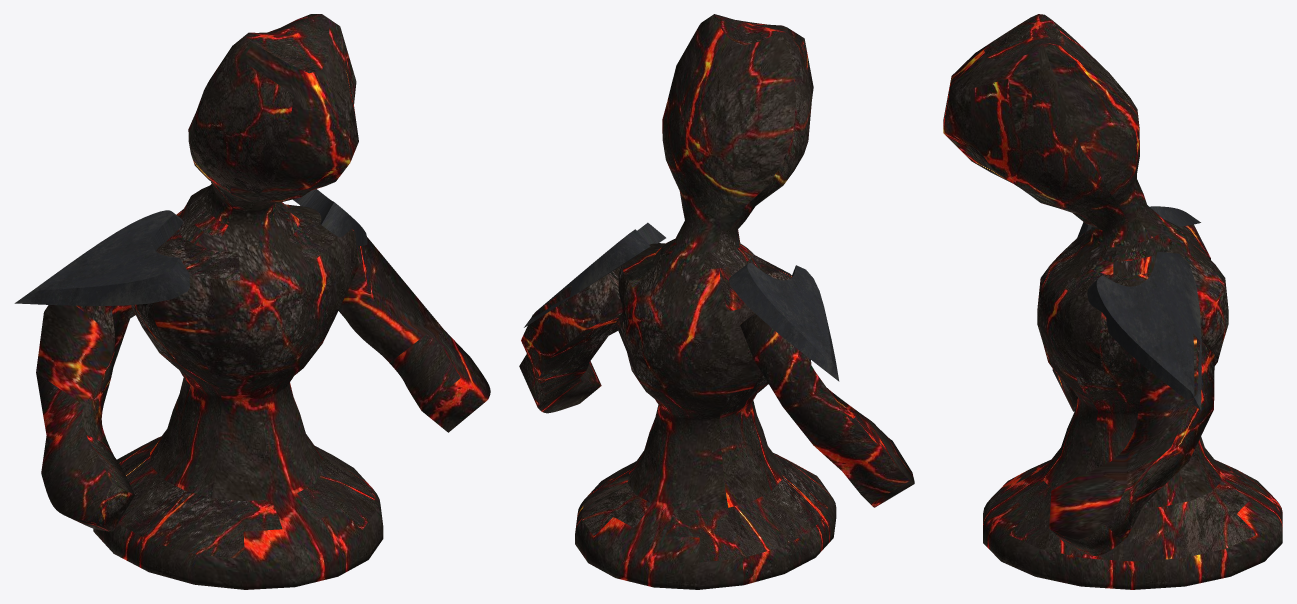
Rendered from mdl_Teleporter.FBX.
The picture shows the model from 3 angles, left to right: view 1: azimuth 30°, elevation 25°; view 2: azimuth 150°, elevation 25°; view 3: azimuth 270°, elevation 25°; orthographic projection. The views are drawn at different scales.
Visible parts, largest first — view 1: Cylinder001, Line002, Line001; view 2: Cylinder001, Line002, Line001; view 3: Cylinder001, Line001, Line002.
Part boxes in pixels (box(x1,y1,x2,y2)): Cylinder001: box(36, 14, 490, 589); Line002: box(14, 210, 189, 305); Line001: box(293, 189, 367, 245); Cylinder001: box(519, 14, 914, 589); Line002: box(728, 262, 839, 381); Line001: box(524, 222, 665, 327); Cylinder001: box(943, 14, 1282, 589); Line001: box(1087, 251, 1201, 410); Line002: box(1077, 206, 1200, 237).
Size of the model in its own units: 137 by 162 by 98.9.
